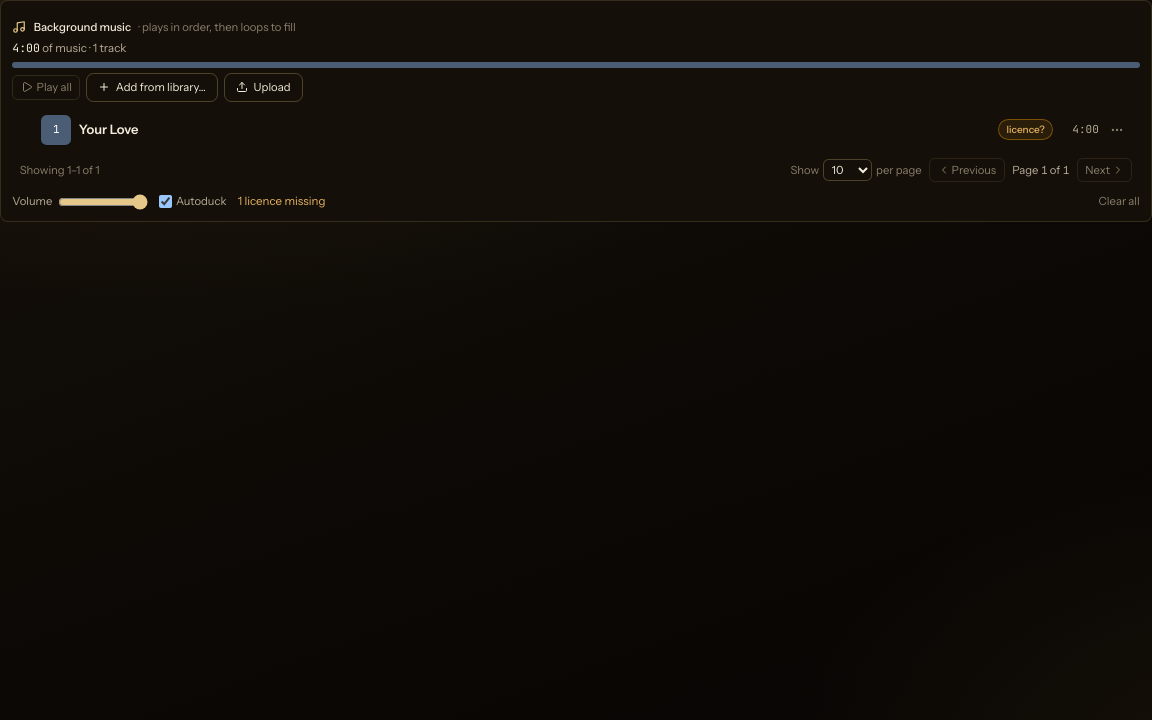
it: MusicPicker — remove vocals › opens the dialog for the chosen track
Expected: the text "Your Love" is shown, top-left (79, 121), bottom-right (139, 137)
Click the button named "more for your love".
click(1117, 130)  # box top-left (1106, 119), bottom-right (1128, 140)
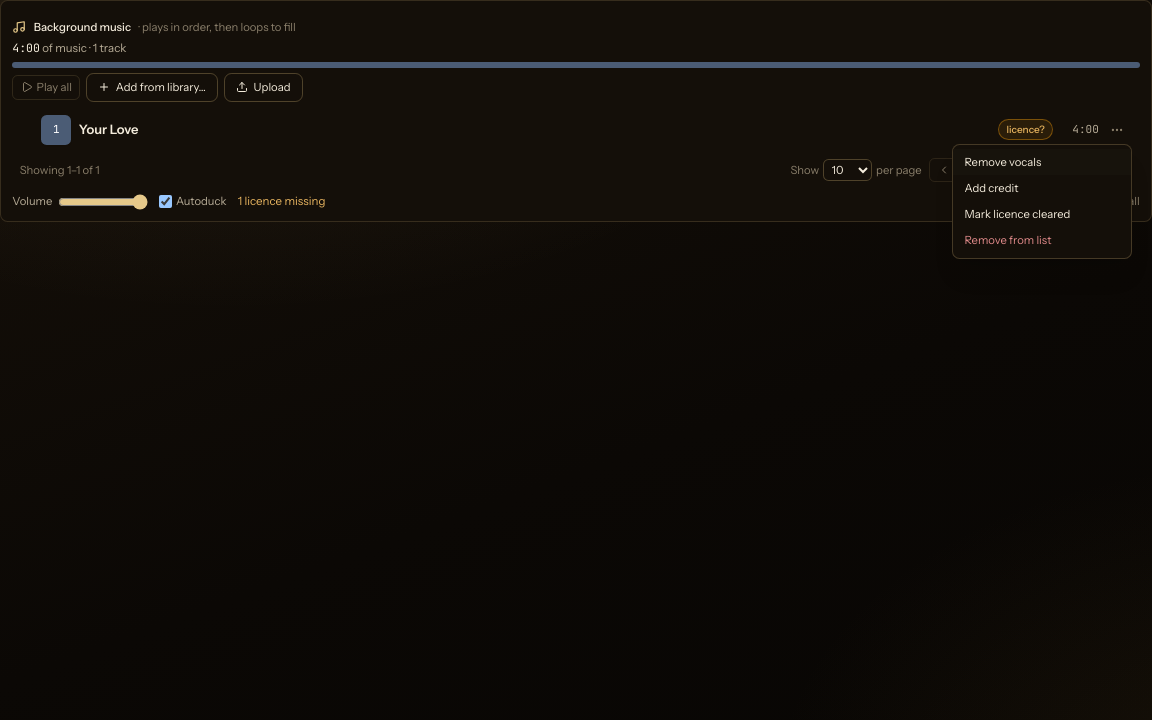
Click the menu item "Remove vocals".
click(1042, 162)  # box top-left (953, 149), bottom-right (1131, 175)
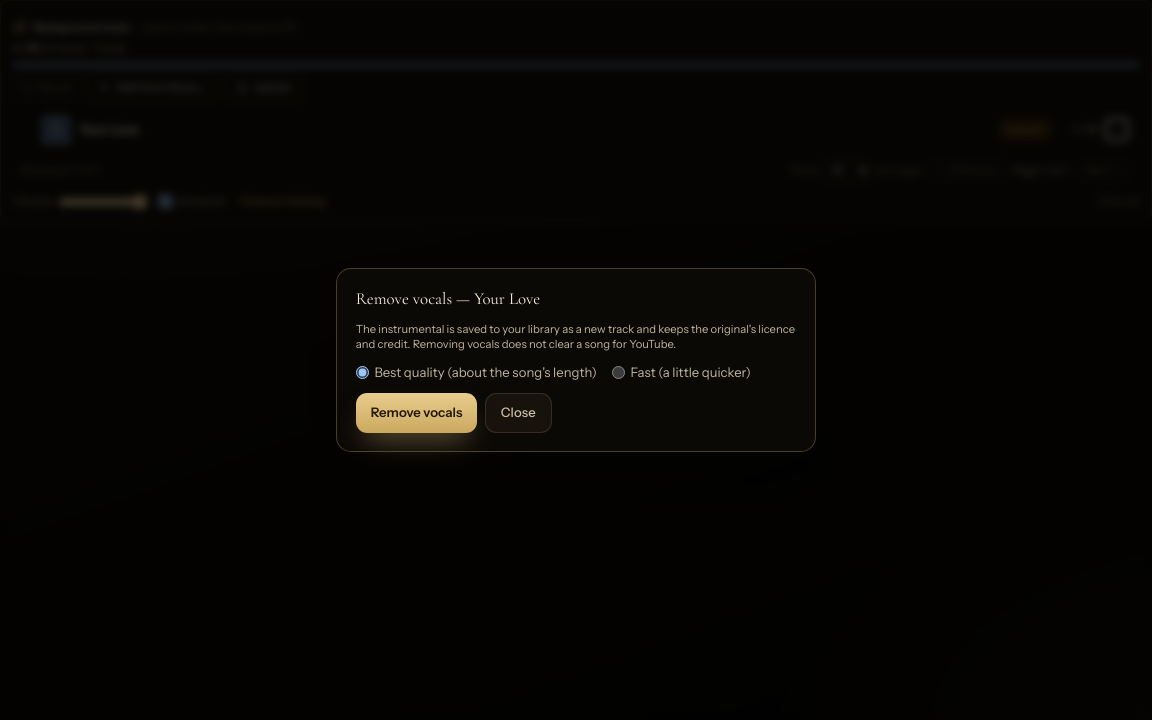
Now the button "Remove vocals" is shown, box top-left (356, 393), bottom-right (477, 433)
